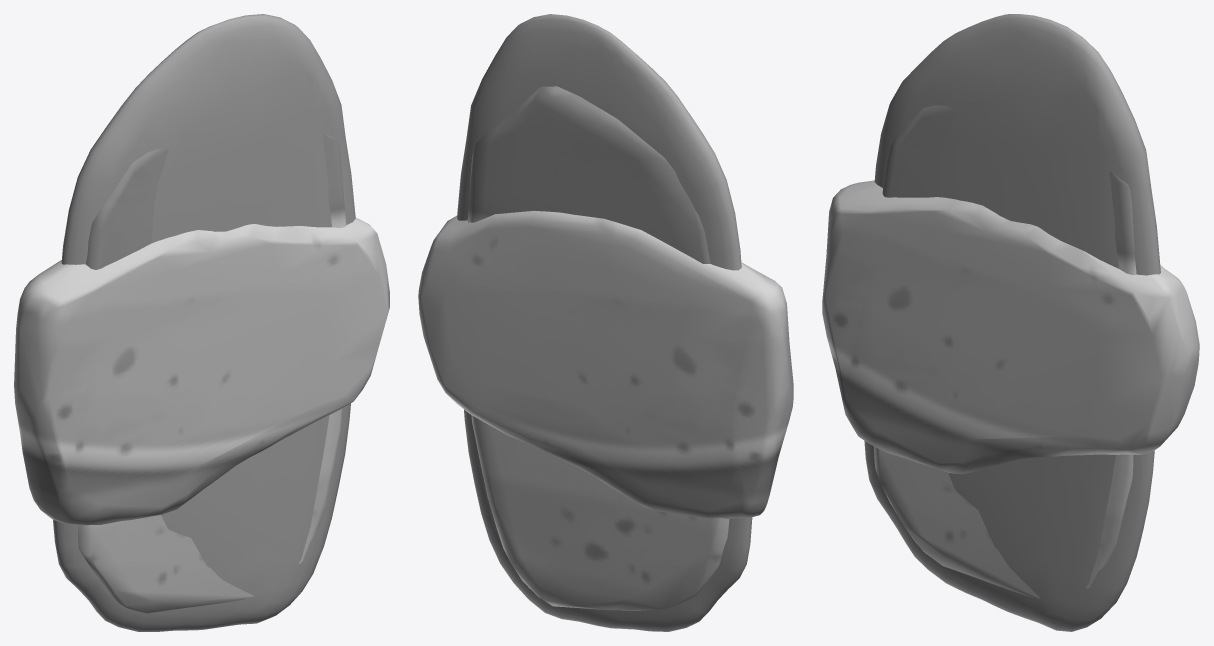
Rendered from SM_UI_BGMenuBurger.fbx.
The picture shows the model from 3 angles, left to right: view 1: azimuth 30°, elevation 25°; view 2: azimuth 150°, elevation 25°; view 3: azimuth 330°, elevation 25°; orthographic projection.
Visible parts, largest first — view 1: SM_UI_BGMenuBurger_Leave, SM_UI_BGMenuBurger_PFire, SM_UI_BGMenuBurger_P; view 2: SM_UI_BGMenuBurger_Leave, SM_UI_BGMenuBurger_P, SM_UI_BGMenuBurger_PFire; view 3: SM_UI_BGMenuBurger_Leave, SM_UI_BGMenuBurger_PFire, SM_UI_BGMenuBurger_P.
Boxes of the visible parts, left/top/right/bottom form: SM_UI_BGMenuBurger_Leave: left=14, top=218, right=389, bottom=525; SM_UI_BGMenuBurger_PFire: left=53, top=14, right=355, bottom=631; SM_UI_BGMenuBurger_P: left=78, top=133, right=346, bottom=613; SM_UI_BGMenuBurger_Leave: left=418, top=210, right=793, bottom=518; SM_UI_BGMenuBurger_P: left=467, top=86, right=729, bottom=610; SM_UI_BGMenuBurger_PFire: left=457, top=14, right=752, bottom=631; SM_UI_BGMenuBurger_Leave: left=822, top=180, right=1199, bottom=474; SM_UI_BGMenuBurger_PFire: left=864, top=14, right=1160, bottom=631; SM_UI_BGMenuBurger_P: left=874, top=105, right=1136, bottom=598.
Bounding box in the file's own units: 4.59 × 7.3 × 0.7387.
